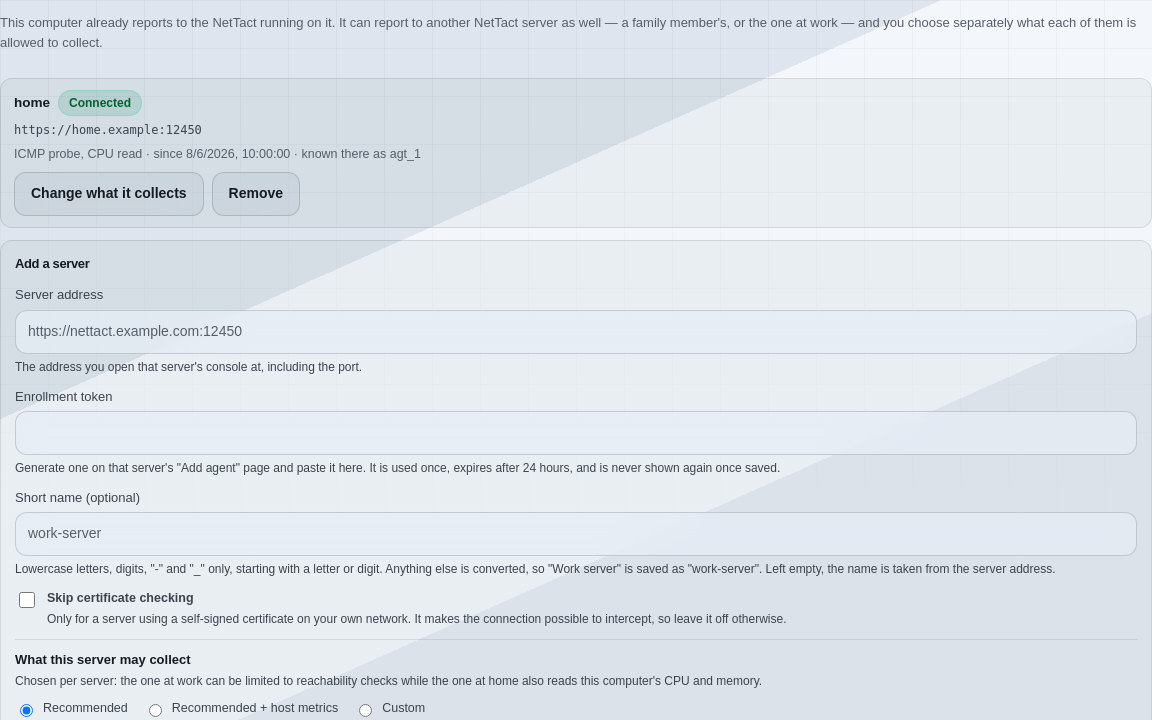
it: LocalAgentServers permission editing › opens on a custom selection when the grant matches no preset
Click the button with class "las-edit" at x=109, y=194, box [14, 172, 204, 216]
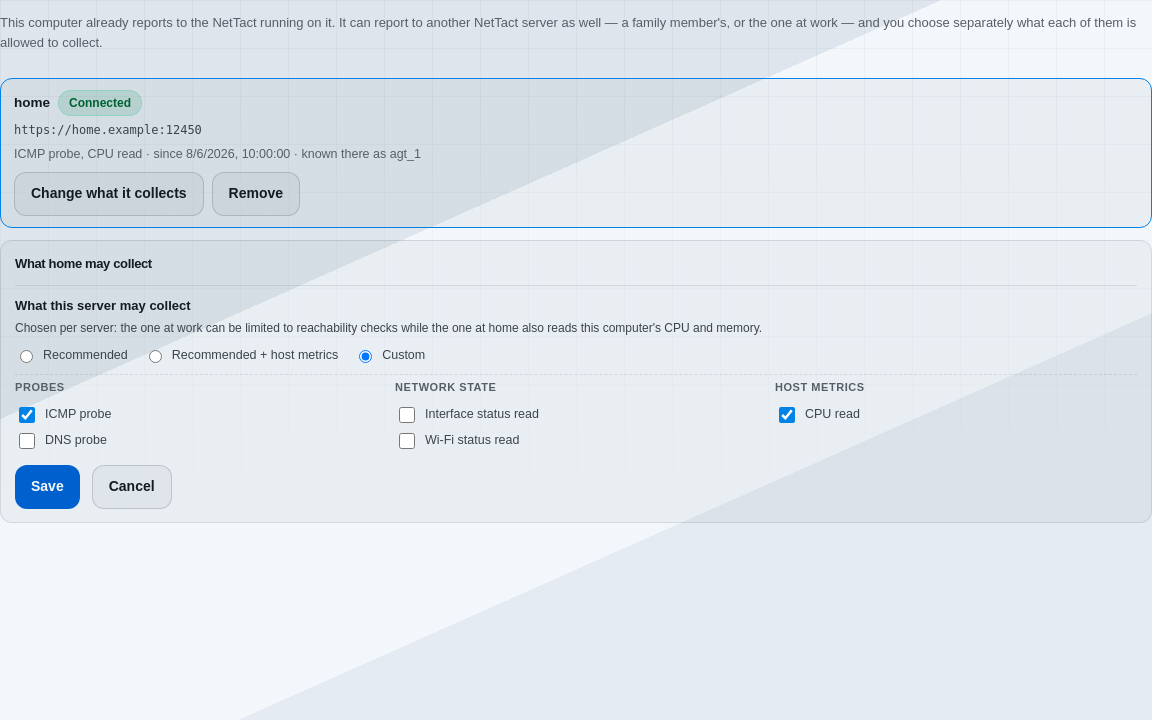
Expected: the radio button labelled "Custom" is checked, [359, 350, 372, 363]
